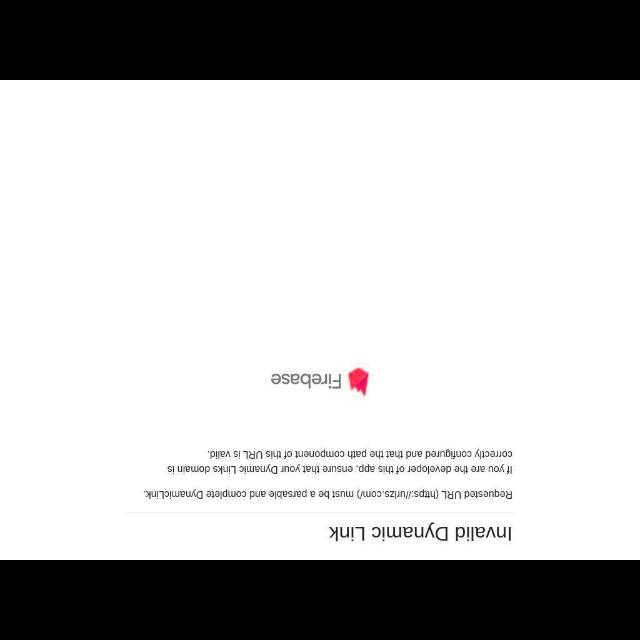image: (270, 368, 368, 394)
text: (166, 450, 514, 474), (329, 521, 513, 543), (144, 490, 514, 500)
